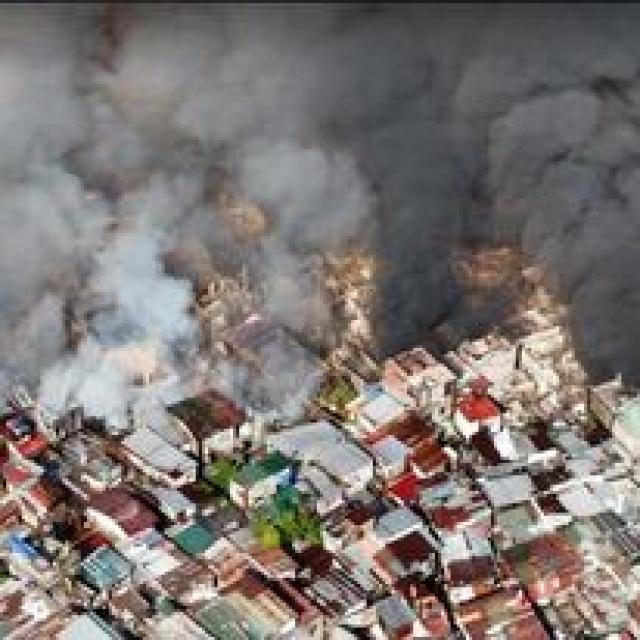Smoke: (0, 0, 382, 265), (373, 9, 640, 370), (0, 261, 195, 405)
